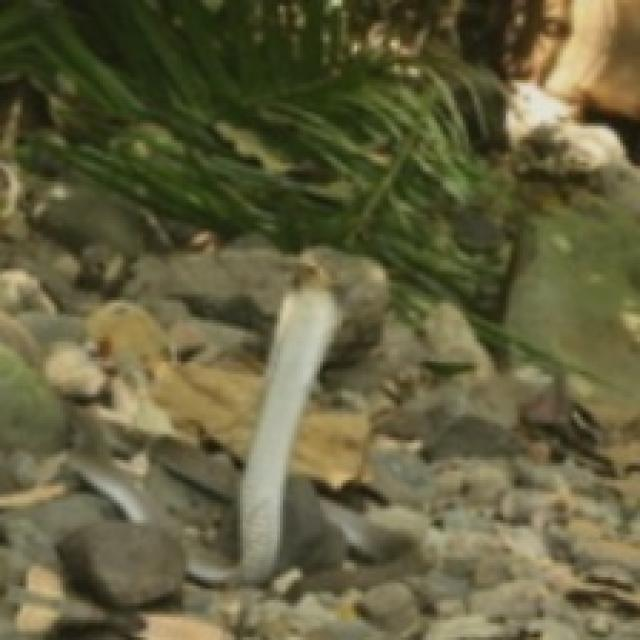king cobra: (186, 283, 340, 580)
